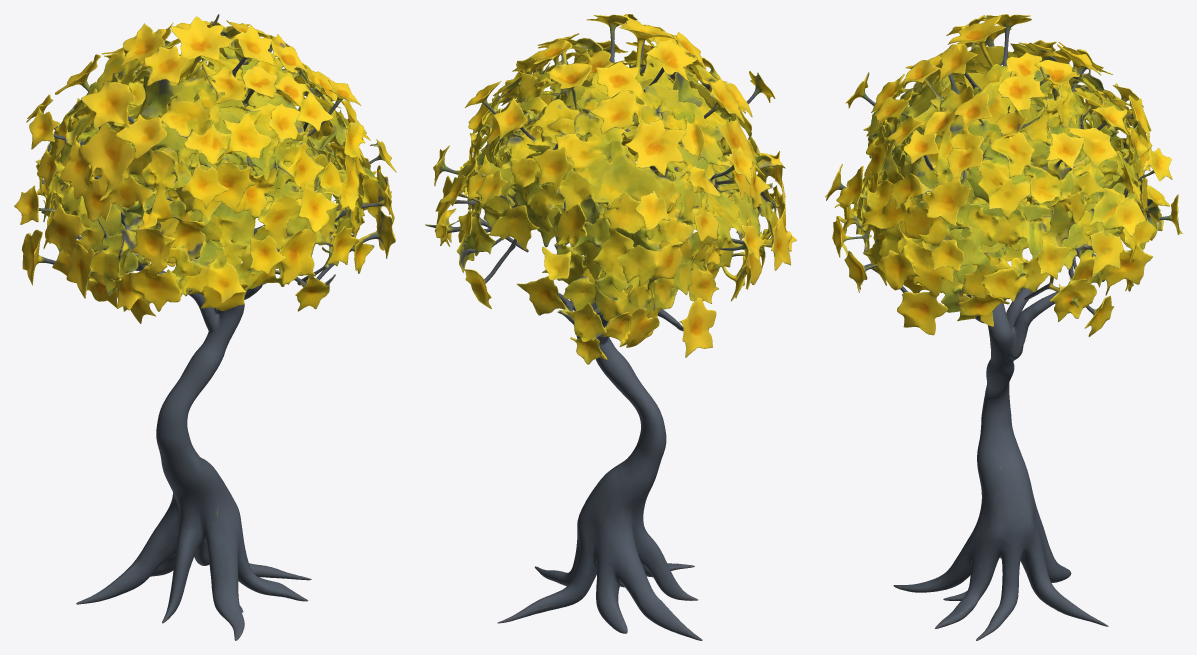
The model's file is cerrado_ipe.glb.
3 views of the same model, side by side, from view 1: azimuth 30°, elevation 25°; view 2: azimuth 150°, elevation 25°; view 3: azimuth 270°, elevation 25° (orthographic).
Size of the model in its own units: 1.13 by 1.89 by 1.08.
1 material, 1 textured.
